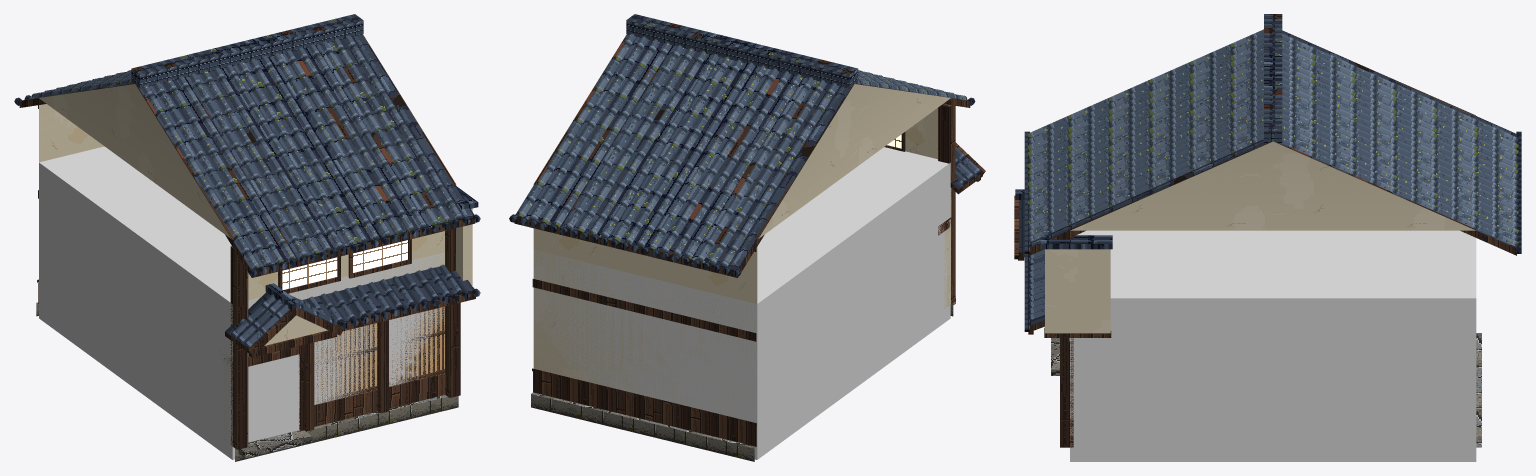
File: JP_Row_House_C_M.glb
3 views of the same model, side by side, from view 1: azimuth 30°, elevation 25°; view 2: azimuth 150°, elevation 25°; view 3: azimuth 270°, elevation 25° (orthographic). The views are drawn at different scales.
Visible parts, largest first — view 1: JP_Row_House_C_M, COL_JP_Row_House_C_M; view 2: JP_Row_House_C_M, COL_JP_Row_House_C_M; view 3: COL_JP_Row_House_C_M, JP_Row_House_C_M.
Part boxes in pixels (bbox=[...]): JP_Row_House_C_M: bbox=[14, 14, 480, 461]; COL_JP_Row_House_C_M: bbox=[39, 146, 444, 459]; JP_Row_House_C_M: bbox=[509, 14, 985, 461]; COL_JP_Row_House_C_M: bbox=[533, 147, 950, 459]; COL_JP_Row_House_C_M: bbox=[1070, 230, 1476, 461]; JP_Row_House_C_M: bbox=[1014, 14, 1521, 447].
Bounding box in the file's own units: 6.47 × 8.14 × 11.23.
Materials: 14 (14 with a texture image).
